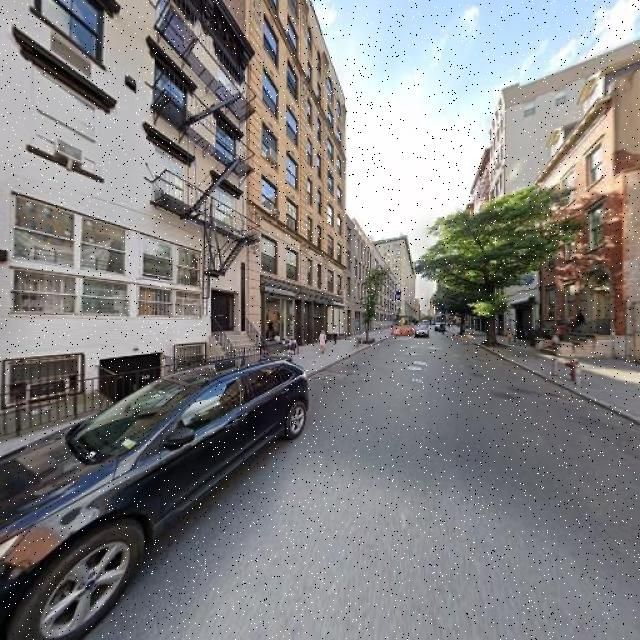Building: (1, 1, 248, 417), (250, 1, 345, 359)
